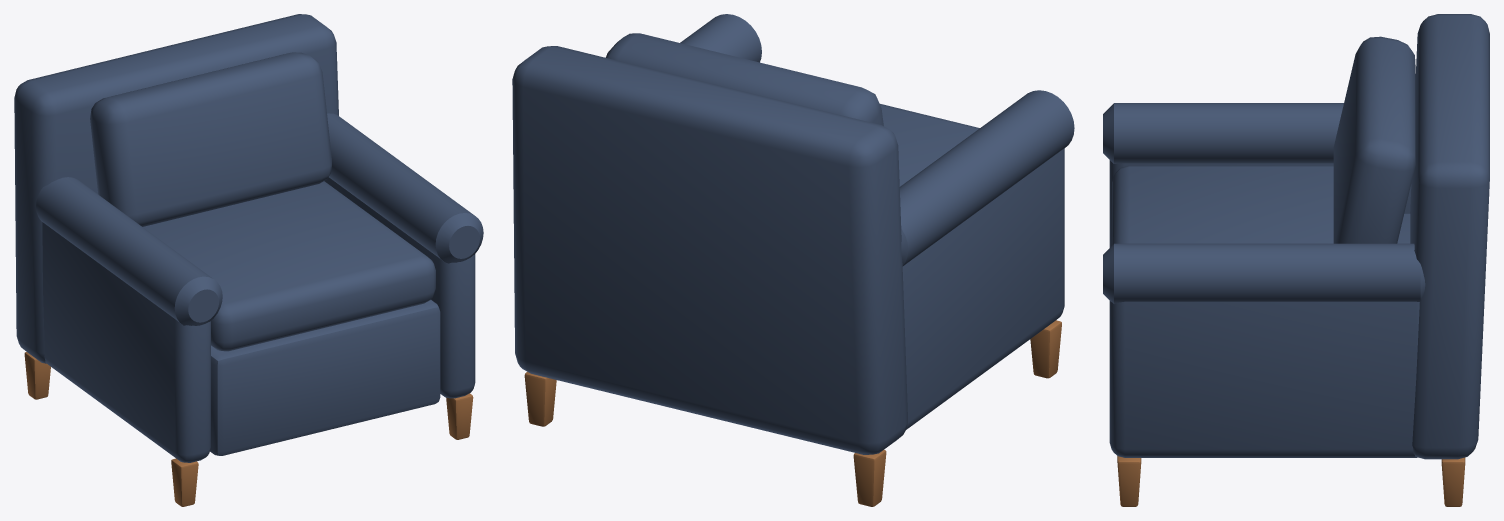
The model's file is Armchair.fbx.
3 renders of one model, left to right at view 1: azimuth 30°, elevation 25°; view 2: azimuth 150°, elevation 25°; view 3: azimuth 270°, elevation 25°, orthographic. The views are drawn at different scales.
Visible parts, largest first — view 1: Armchair_Mesh; view 2: Armchair_Mesh; view 3: Armchair_Mesh.
Part boxes in pixels (box(x1,y1,x2,y2)): Armchair_Mesh: box(14, 14, 483, 506); Armchair_Mesh: box(512, 14, 1074, 506); Armchair_Mesh: box(1103, 14, 1489, 506).
Bounding box in the file's own units: 0.9 × 0.8604 × 0.8832.
